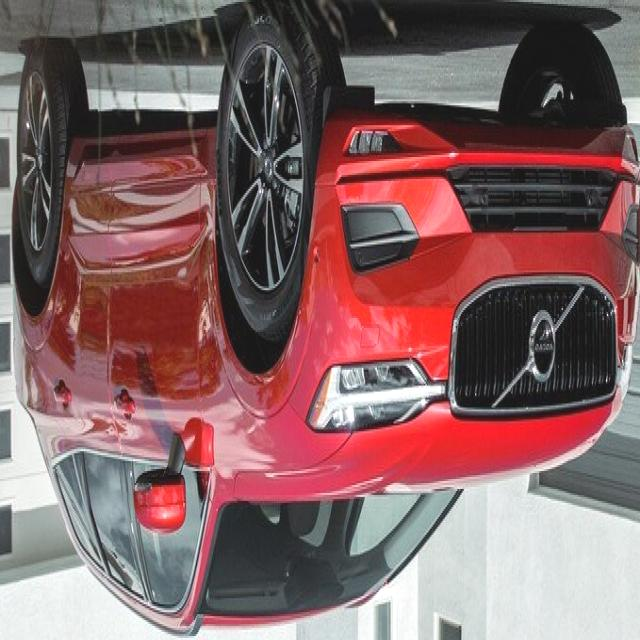red: (0, 41, 637, 633)
